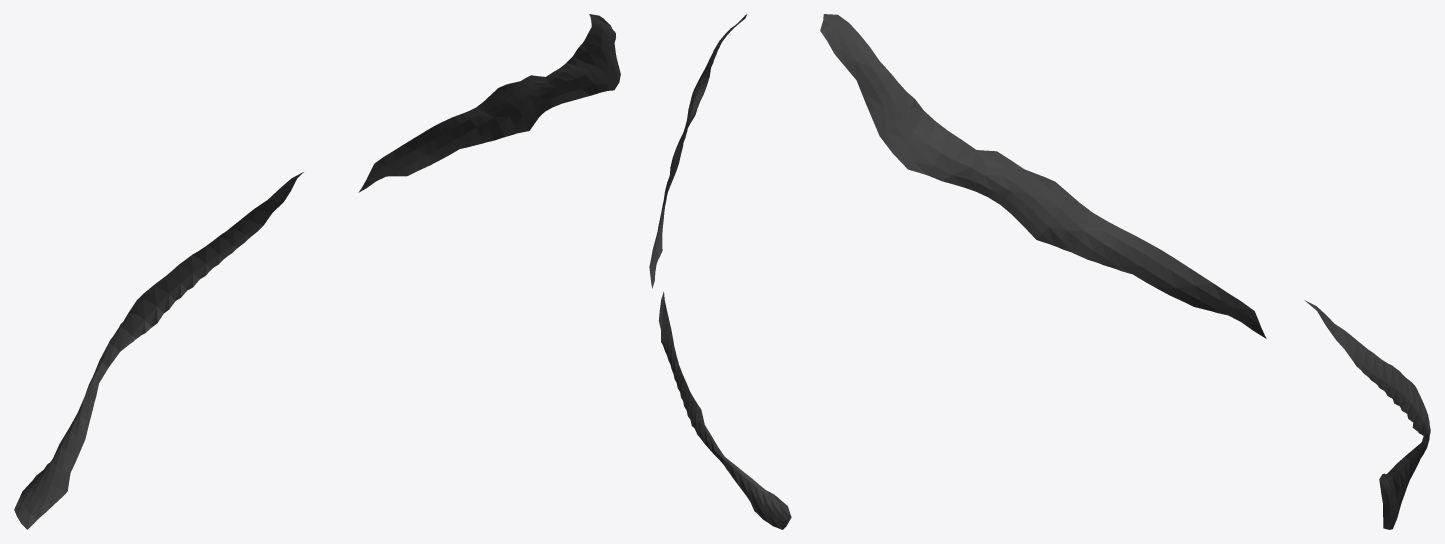
The model's file is eq_dist_limb_Lat_Digital_Dorsal_Rm.glb.
3 views of the same model, side by side, from view 1: azimuth 30°, elevation 25°; view 2: azimuth 150°, elevation 25°; view 3: azimuth 270°, elevation 25° (orthographic). The views are drawn at different scales.
Visible parts, largest first — view 1: eq_dist_limb_Lat_Digital_Dorsal_Rm; view 2: eq_dist_limb_Lat_Digital_Dorsal_Rm; view 3: eq_dist_limb_Lat_Digital_Dorsal_Rm.
Part boxes in pixels (x1,y1,x2,y2): eq_dist_limb_Lat_Digital_Dorsal_Rm: (14,14,620,529); eq_dist_limb_Lat_Digital_Dorsal_Rm: (649,14,791,529); eq_dist_limb_Lat_Digital_Dorsal_Rm: (820,14,1430,529).
Bounding box in the file's own units: 0.00638 × 0.0099 × 0.00802.
Materials: 1 (1 with a texture image).
